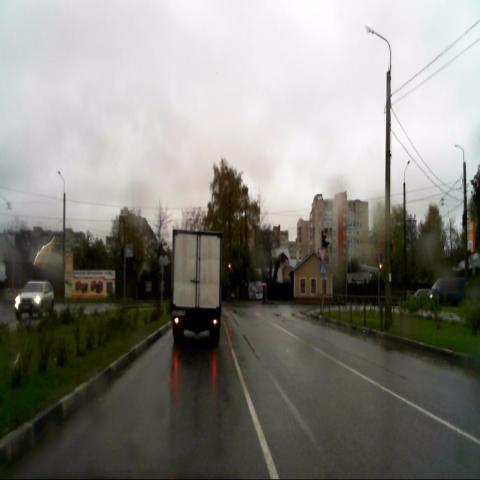2_4: (318, 248, 326, 262)
